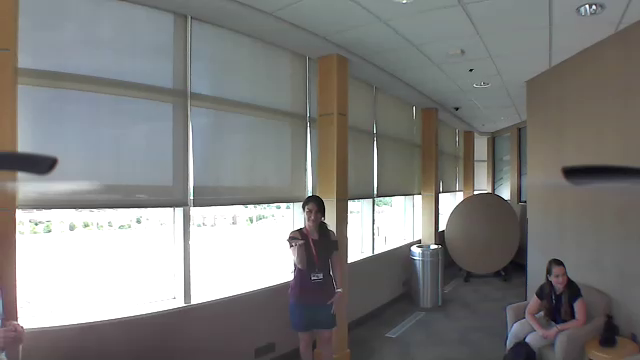land: (283, 237, 306, 251)
